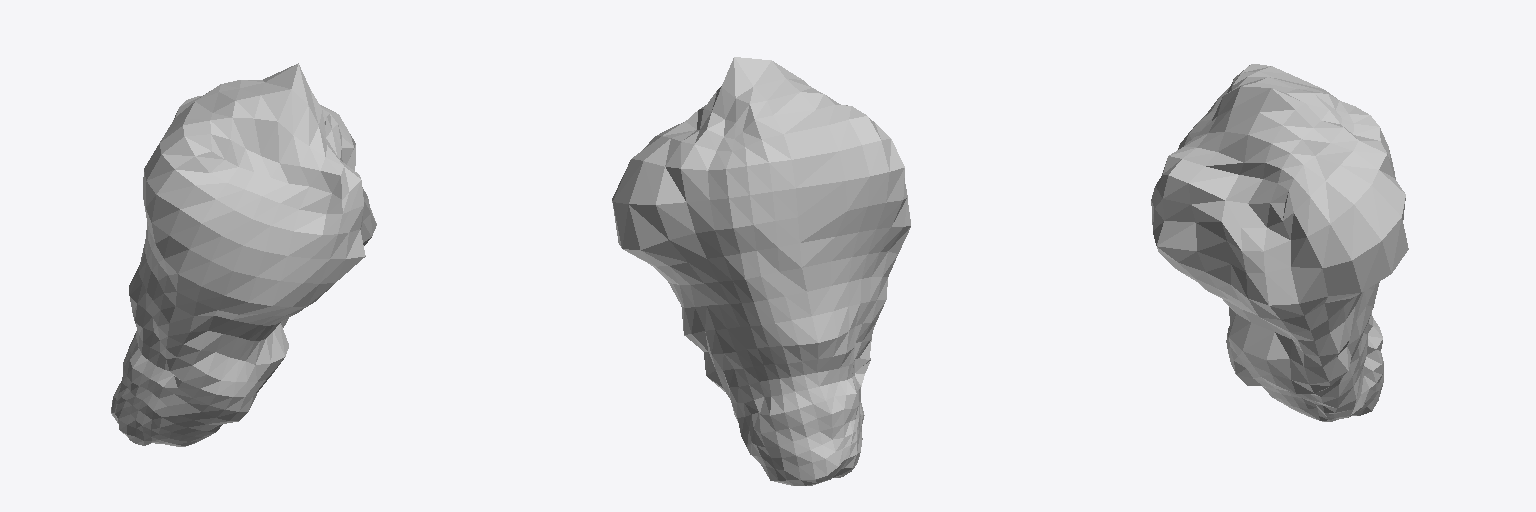
The model's file is rock047.obj.
3 renders of one model, left to right at view 1: azimuth 30°, elevation 25°; view 2: azimuth 150°, elevation 25°; view 3: azimuth 270°, elevation 25°, orthographic.
Parts seen in each view (by area): view 1: rockwall_a09b1; view 2: rockwall_a09b1; view 3: rockwall_a09b1.
Boxes of the visible parts, x1=… form: rockwall_a09b1: x1=111, y1=63, x2=376, y2=446; rockwall_a09b1: x1=612, y1=57, x2=910, y2=485; rockwall_a09b1: x1=1151, y1=64, x2=1408, y2=421.
Size of the model in its own units: 1651 by 2454 by 1535.